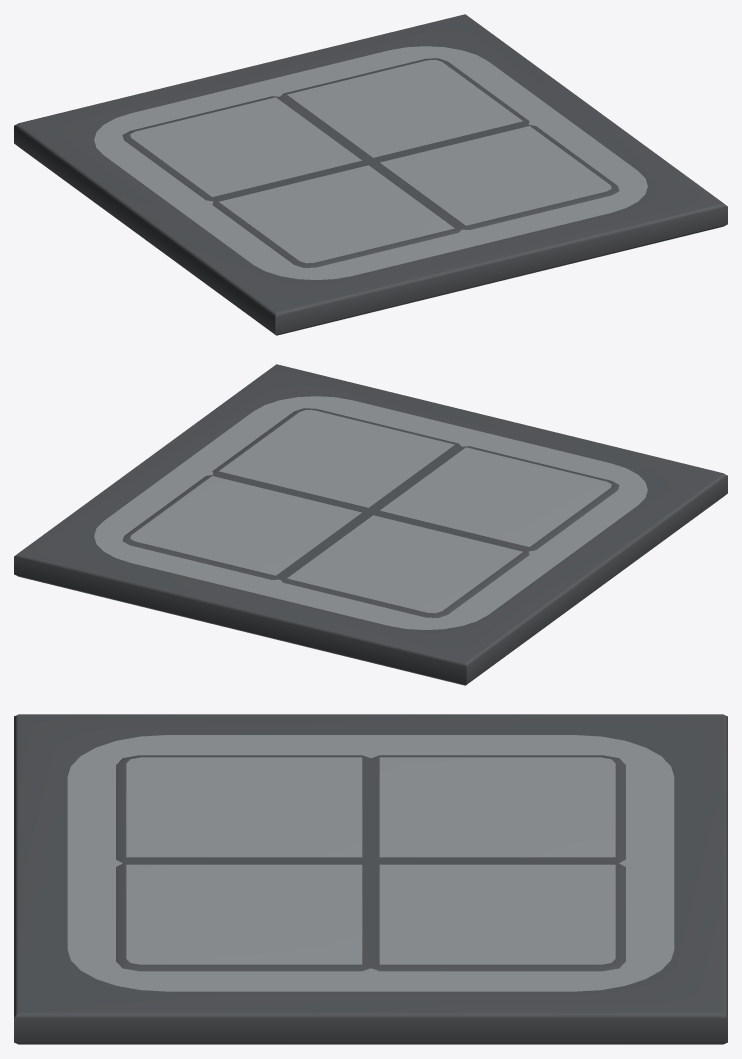
Rendered from Platform_007.fbx.
The picture shows the model from 3 angles, top to bottom: view 1: azimuth 30°, elevation 25°; view 2: azimuth 150°, elevation 25°; view 3: azimuth 270°, elevation 25°; orthographic projection. The views are drawn at different scales.
Parts seen in each view (by area): view 1: Platform_007; view 2: Platform_007; view 3: Platform_007.
Boxes of the visible parts, bbox=[...] form: Platform_007: bbox=[14, 14, 727, 335]; Platform_007: bbox=[14, 364, 727, 685]; Platform_007: bbox=[14, 714, 727, 1044].
Bounding box in the file's own units: 400 × 400 × 22.69.
